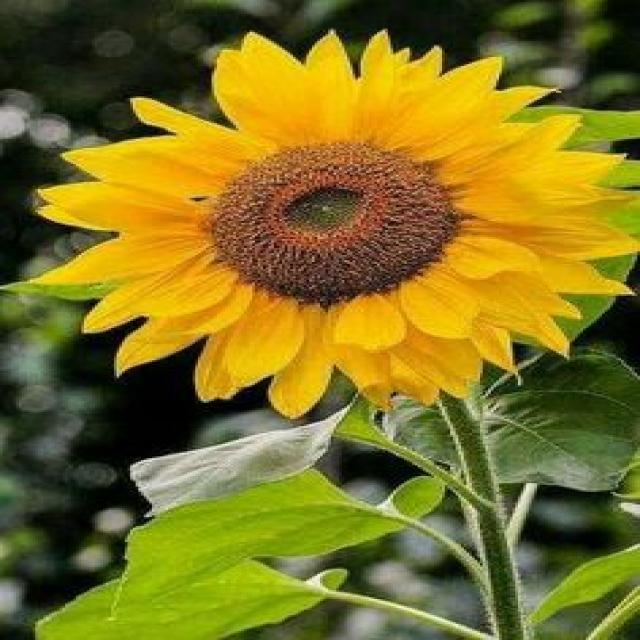sunflower: (1, 22, 620, 432)
